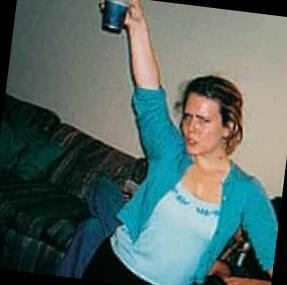Drunk: (181, 93, 223, 152)
